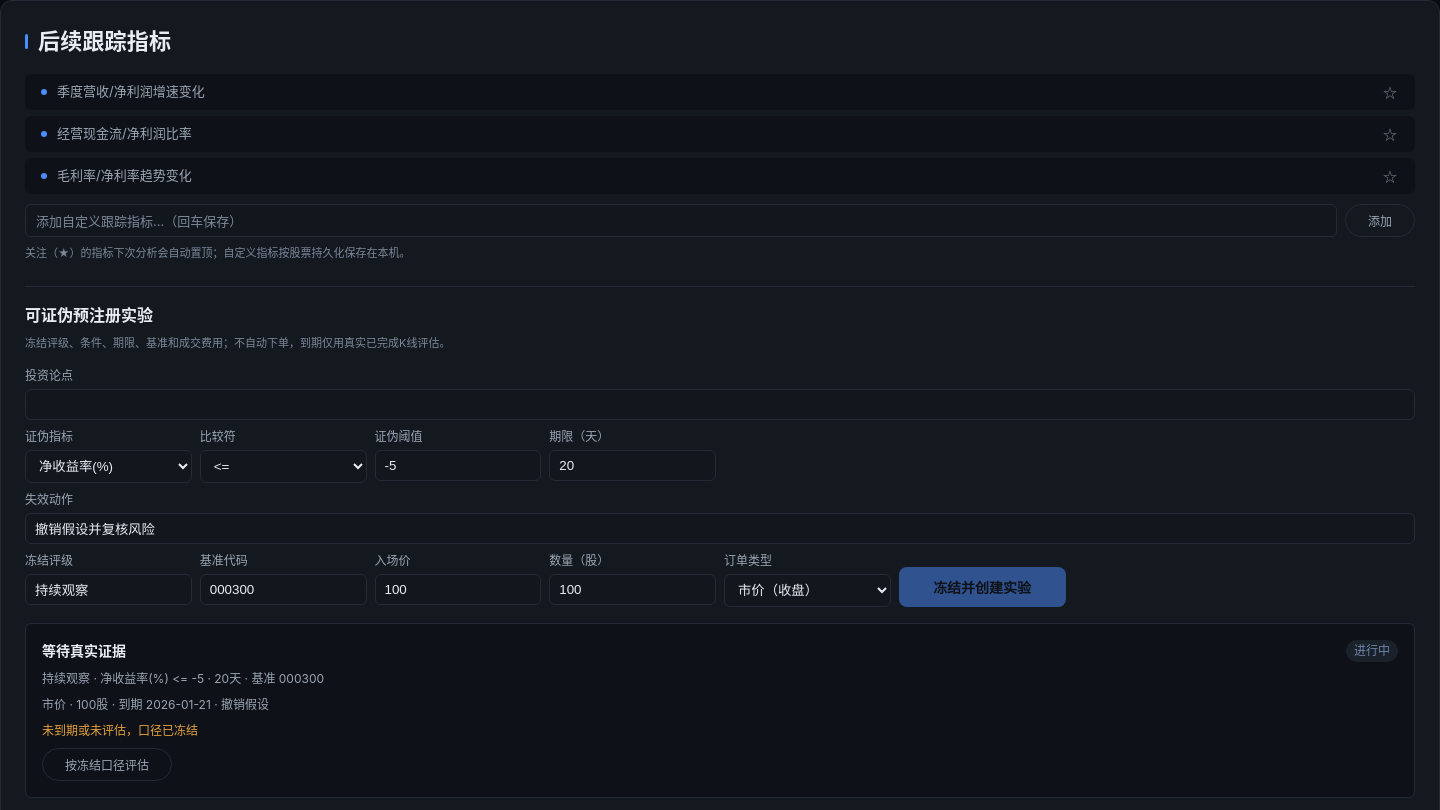
Test case: FollowUpSection 后续跟踪指标 › 评估后展示证据不足，不制造收益结论
The image size is (1440, 810).
Step 1. Click the button "按冻结口径评估" → (107, 764), box [42,748,172,781]
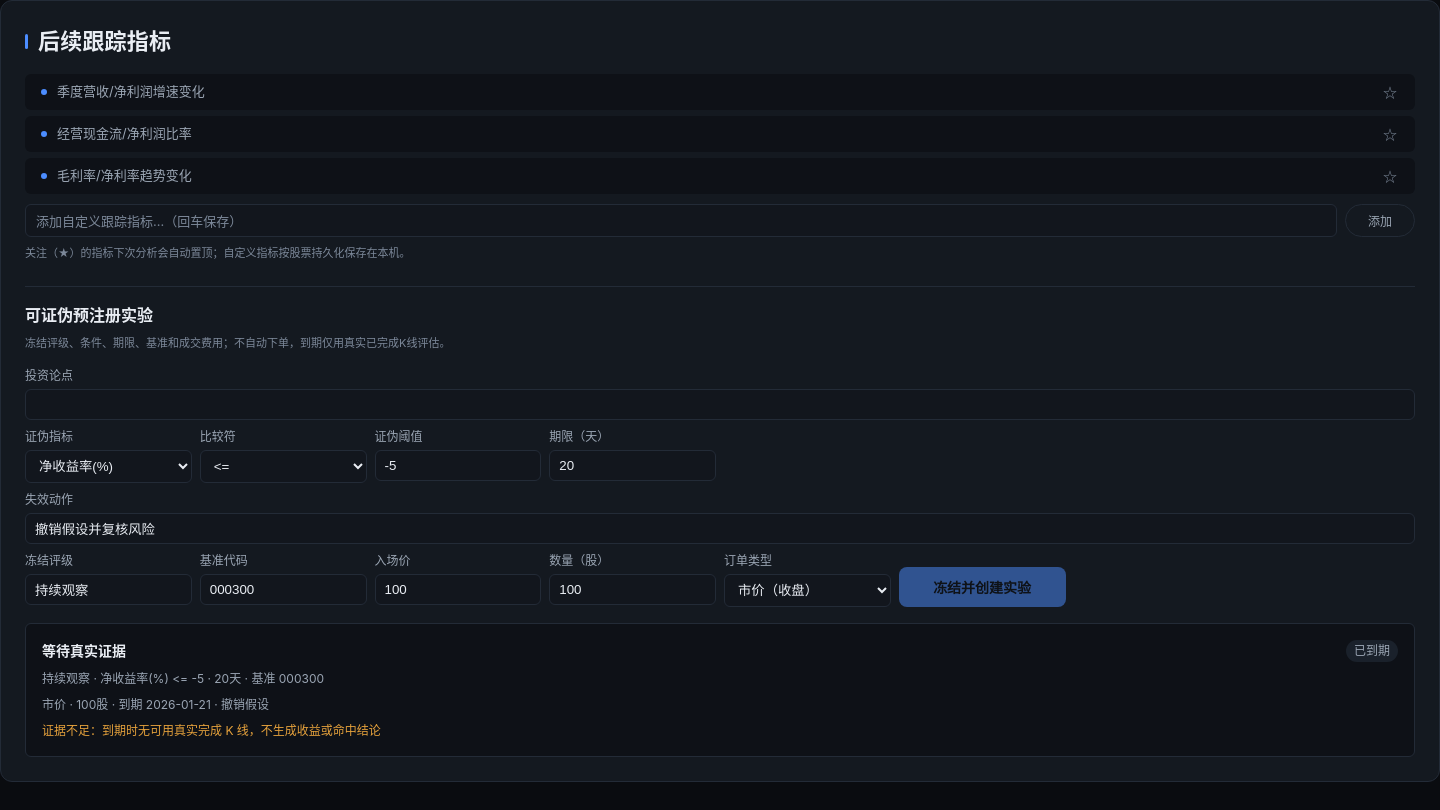
Now the text "已到期" is shown, box [1346,640,1398,662]
Now the text "证据不足：到期时无可用真实完成 K 线，不生成收益或命中结论" is shown, box [42,723,381,738]
